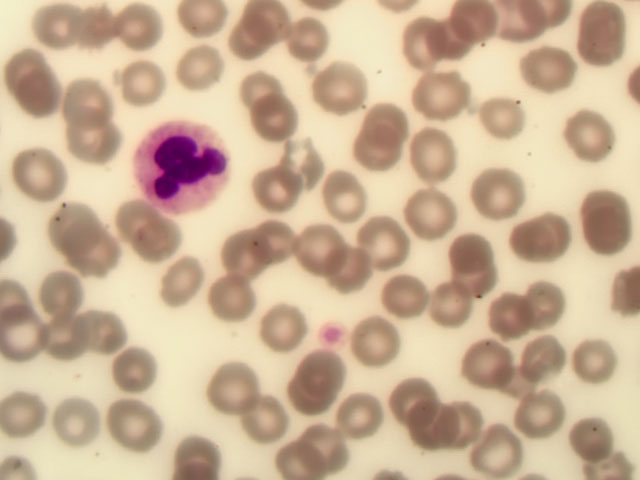Platelets: (320, 326, 347, 346)
RBC: (164, 430, 240, 480), (20, 81, 71, 133), (58, 72, 109, 124), (68, 121, 119, 173), (119, 51, 170, 103), (123, 2, 174, 54), (36, 1, 87, 53), (172, 39, 223, 91), (226, 21, 277, 73), (282, 13, 333, 65), (312, 61, 363, 113), (250, 98, 301, 150), (231, 61, 282, 113), (285, 143, 336, 195), (246, 164, 297, 216), (243, 213, 294, 265), (211, 235, 262, 287), (205, 271, 256, 323), (153, 257, 204, 309), (138, 223, 189, 275), (116, 196, 167, 248), (79, 228, 130, 280), (46, 199, 97, 251), (19, 154, 70, 206), (41, 267, 92, 319), (33, 305, 84, 357), (3, 310, 54, 362), (77, 306, 128, 358), (108, 336, 159, 388), (109, 388, 160, 440), (56, 403, 107, 455), (210, 363, 261, 415), (242, 392, 293, 444), (271, 428, 322, 480), (334, 393, 385, 445), (296, 350, 347, 402), (259, 303, 310, 355), (289, 223, 340, 275), (335, 251, 386, 303), (352, 217, 403, 269), (324, 171, 375, 223), (350, 129, 401, 181), (368, 98, 419, 150), (408, 128, 459, 180), (404, 186, 455, 238), (444, 227, 495, 279), (445, 260, 496, 312), (428, 275, 479, 327), (379, 272, 430, 324), (351, 316, 402, 368), (389, 377, 440, 429), (408, 401, 459, 453), (438, 401, 489, 453), (468, 335, 519, 387), (480, 291, 531, 343), (509, 283, 560, 335), (509, 214, 560, 266), (486, 172, 537, 224), (476, 105, 527, 157), (430, 77, 481, 129), (396, 21, 447, 73), (523, 47, 574, 99), (452, 1, 503, 53), (576, 12, 627, 64), (564, 112, 615, 164), (578, 190, 629, 242), (558, 333, 609, 385), (519, 335, 570, 387), (513, 388, 564, 440), (477, 426, 528, 478), (76, 1, 127, 52), (175, 1, 226, 52), (237, 1, 288, 52), (1, 45, 51, 97), (1, 389, 51, 441)
WBC: (136, 117, 233, 217)
